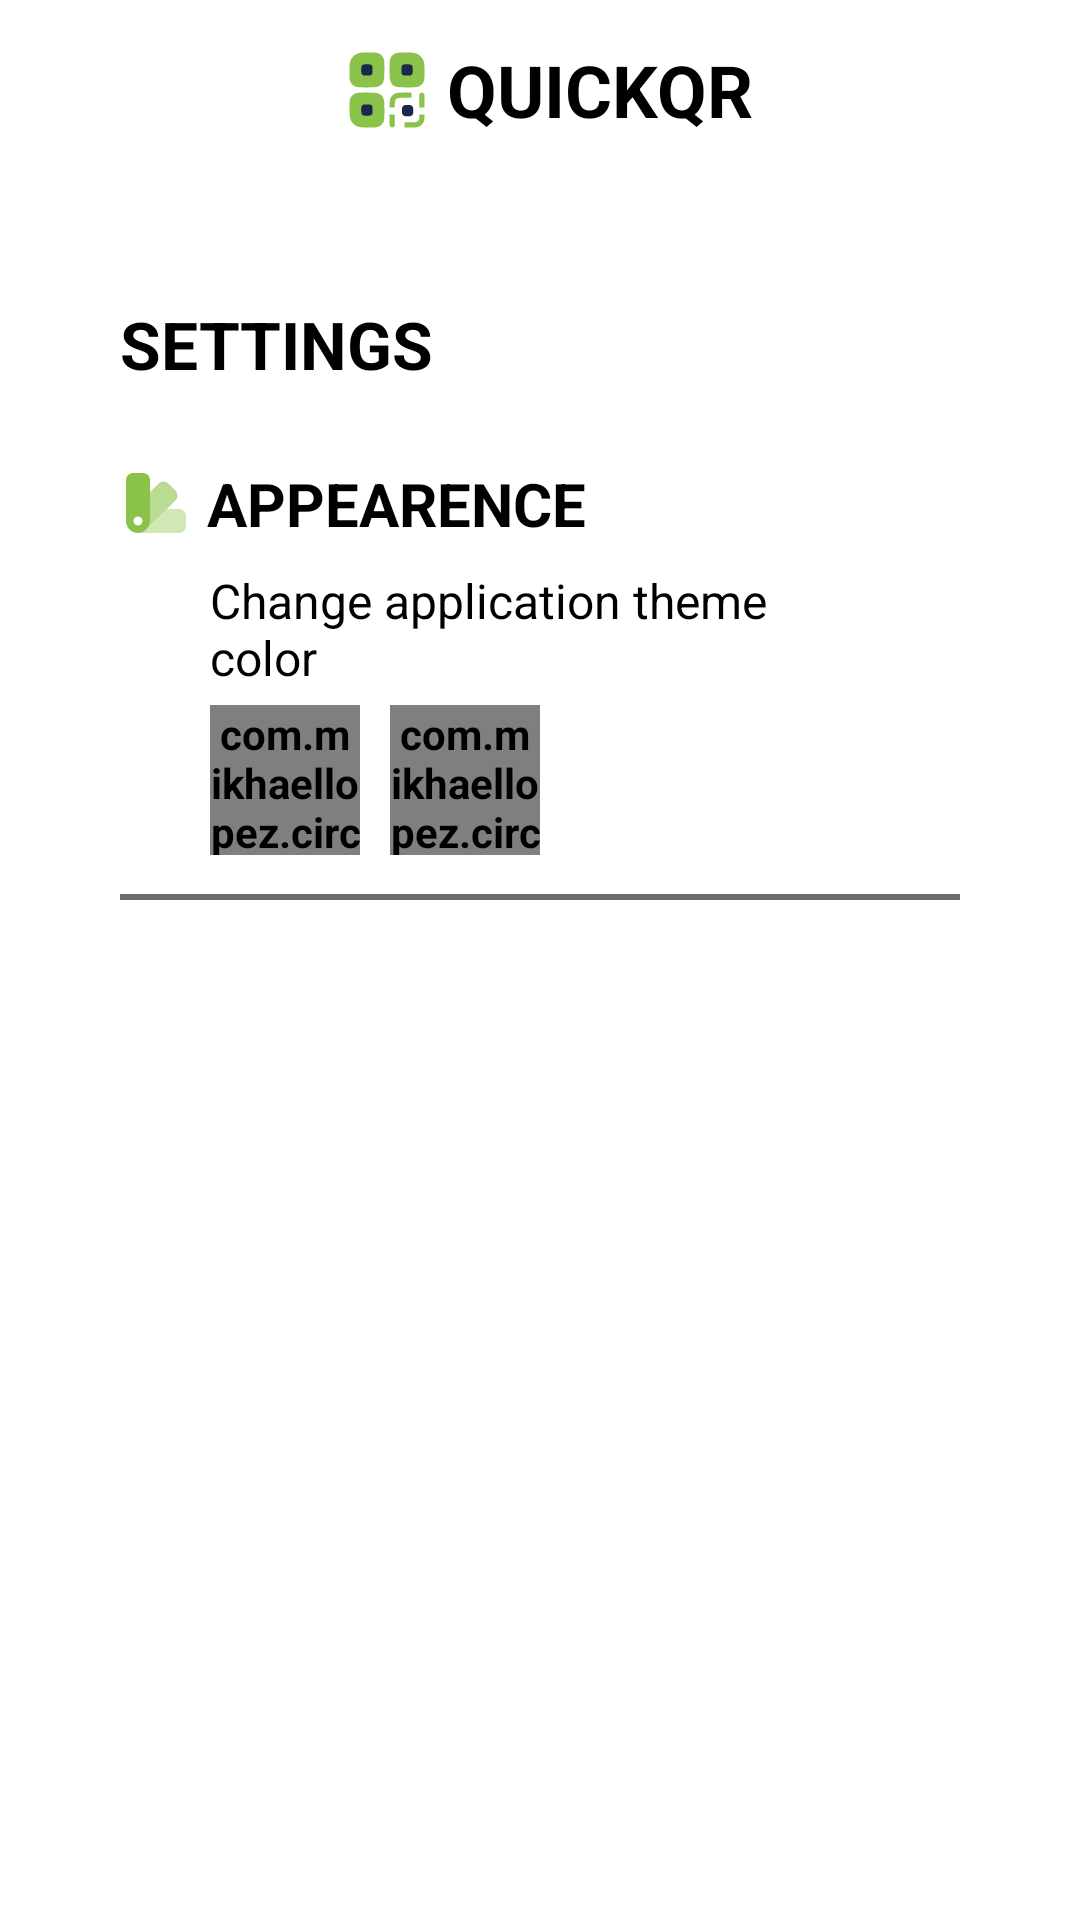

Icons on this 1080×1920 Android screen, each with its box as (x1, y1, x2, y2):
swatch: (126, 473, 186, 533)
